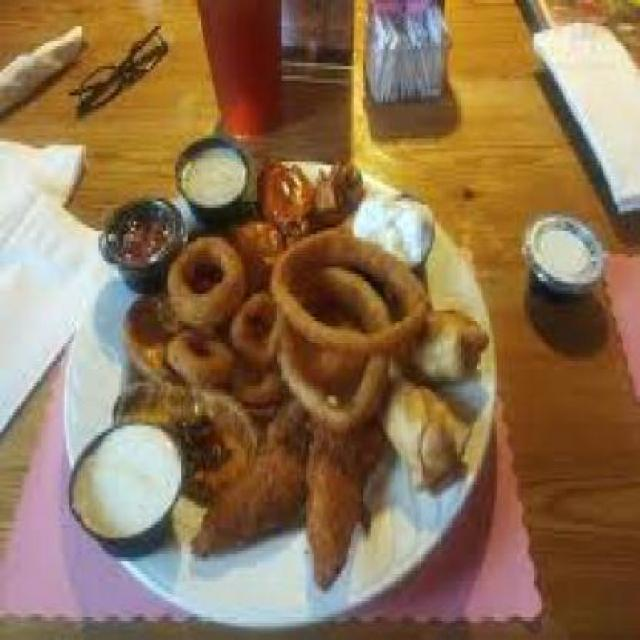chicken wings: (138, 383, 391, 591), (250, 142, 358, 210)
onion rings: (122, 215, 416, 416)
spring rolls: (390, 300, 492, 488)
